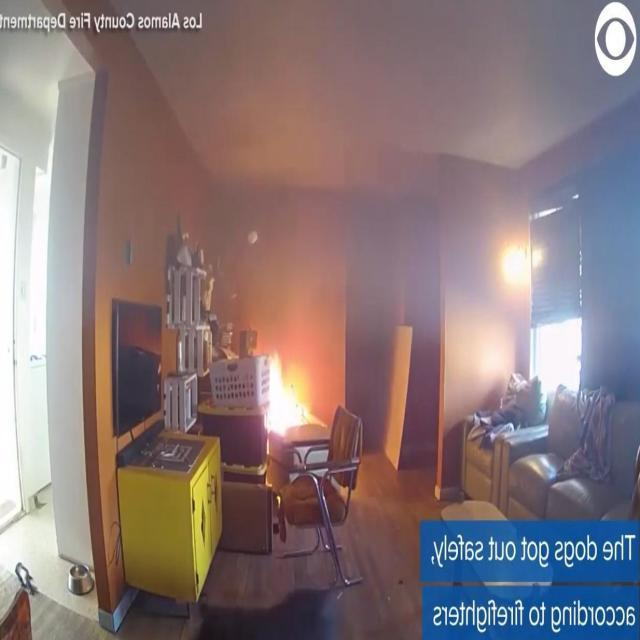smoke: (265, 344, 314, 434)
